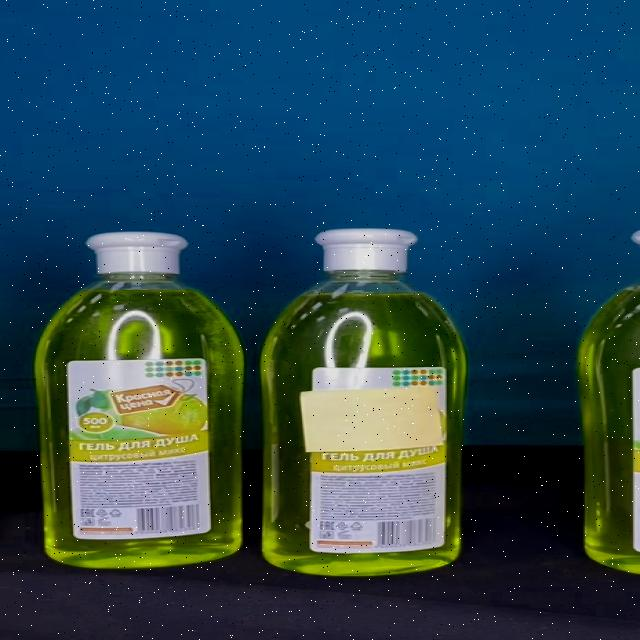Bottle: (259, 229, 466, 576), (37, 231, 245, 570)
Cap: (87, 232, 190, 274), (315, 230, 417, 272)
